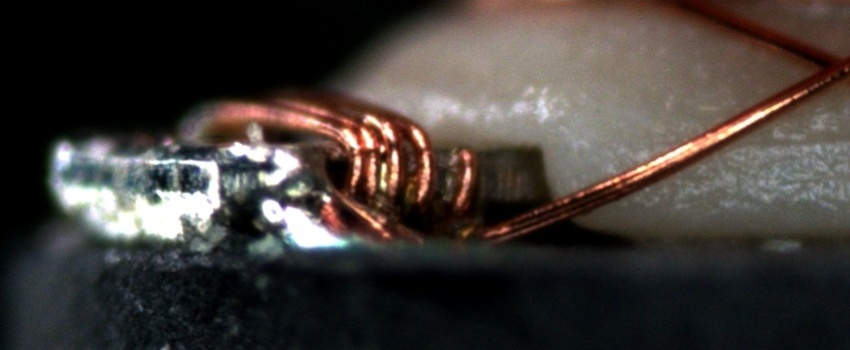CL: (794, 38, 850, 91)
DL: (731, 113, 849, 173)
TE: (182, 88, 487, 237)
